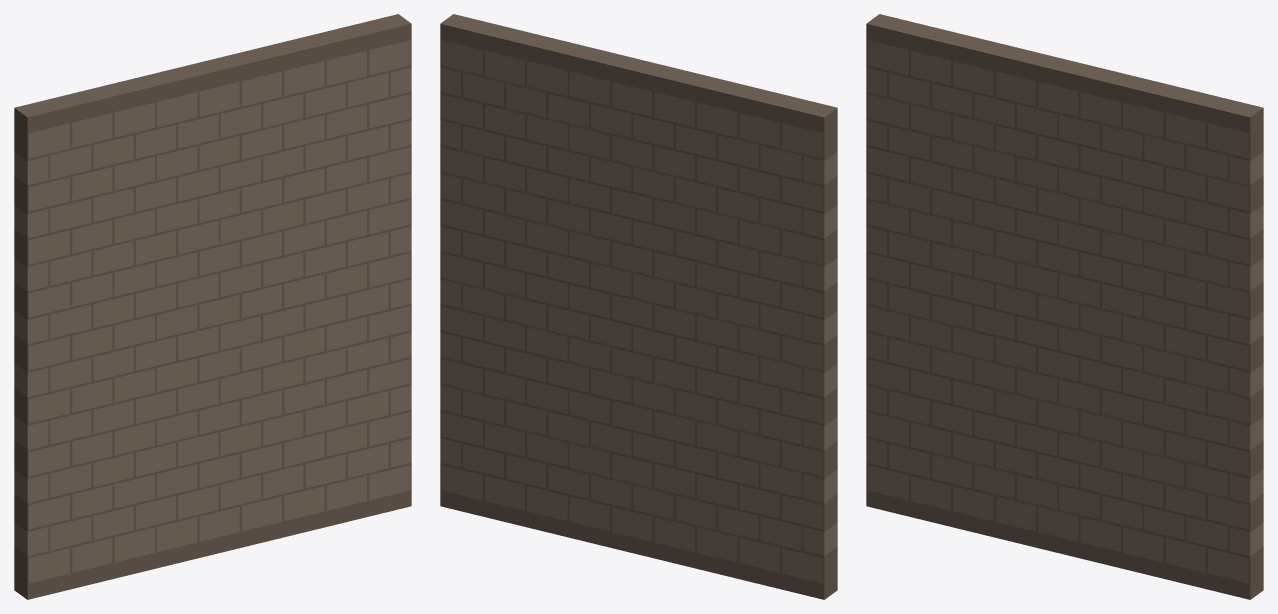
The model's file is Wall1_C10_16.fbx.
3 views of the same model, side by side, from view 1: azimuth 30°, elevation 25°; view 2: azimuth 150°, elevation 25°; view 3: azimuth 330°, elevation 25° (orthographic).
Visible parts, largest first — view 1: Wall1_C10_16; view 2: Wall1_C10_16; view 3: Wall1_C10_16.
Boxes of the visible parts, box(x1,y1,x2,y2) form: Wall1_C10_16: box(14, 14, 411, 599); Wall1_C10_16: box(440, 14, 837, 599); Wall1_C10_16: box(866, 14, 1263, 599).
Bounding box in the file's own units: 250 × 300 × 15.
